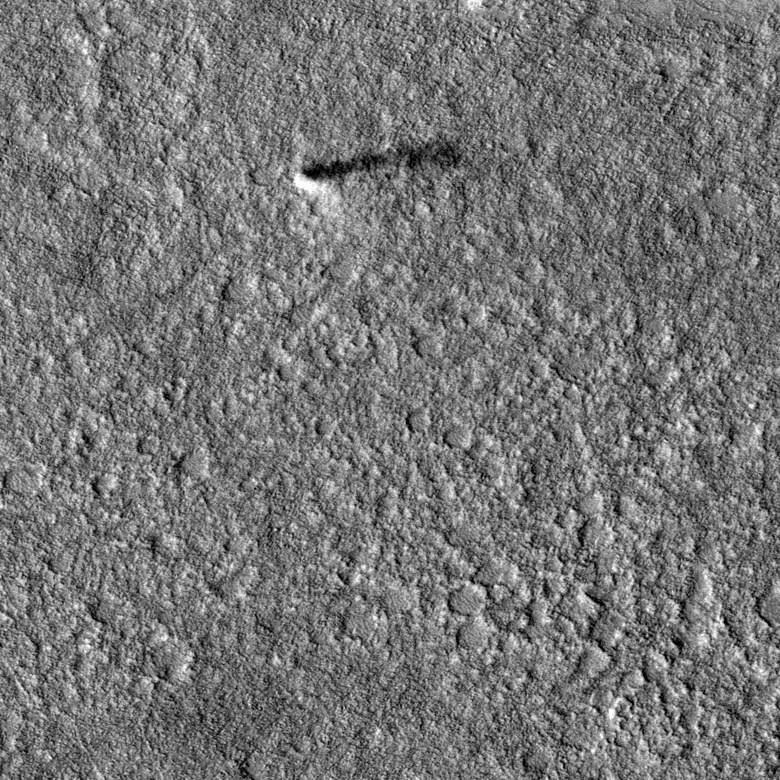dust_devil: (291, 136, 463, 196)
